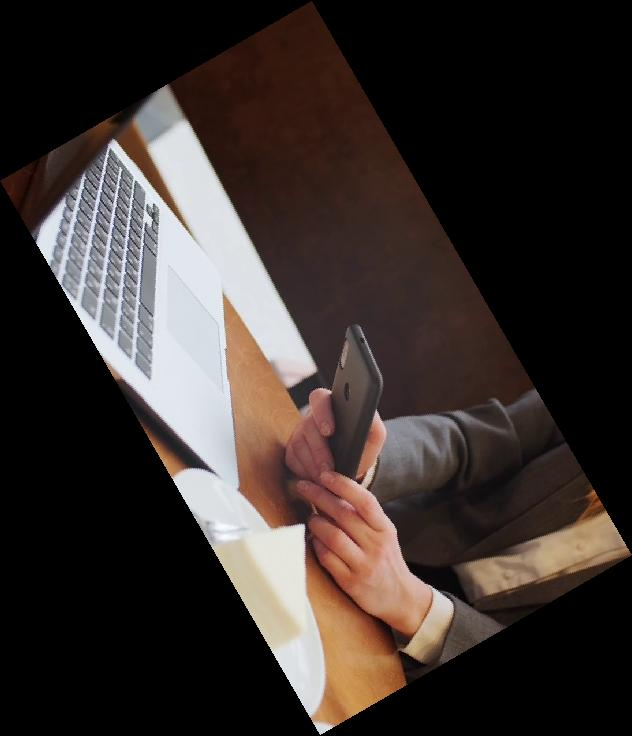phone: (326, 318, 386, 504)
